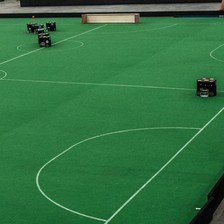ball: (30, 14, 35, 18)
goal: (80, 12, 140, 23)
robot: (195, 75, 218, 98), (37, 34, 52, 48), (44, 20, 57, 31), (33, 23, 45, 34), (25, 21, 34, 34)
